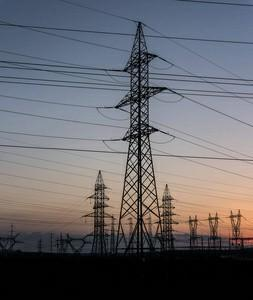power_tower: (118, 15, 166, 255), (85, 167, 115, 255), (202, 209, 222, 245), (227, 206, 245, 243), (185, 211, 200, 248)
